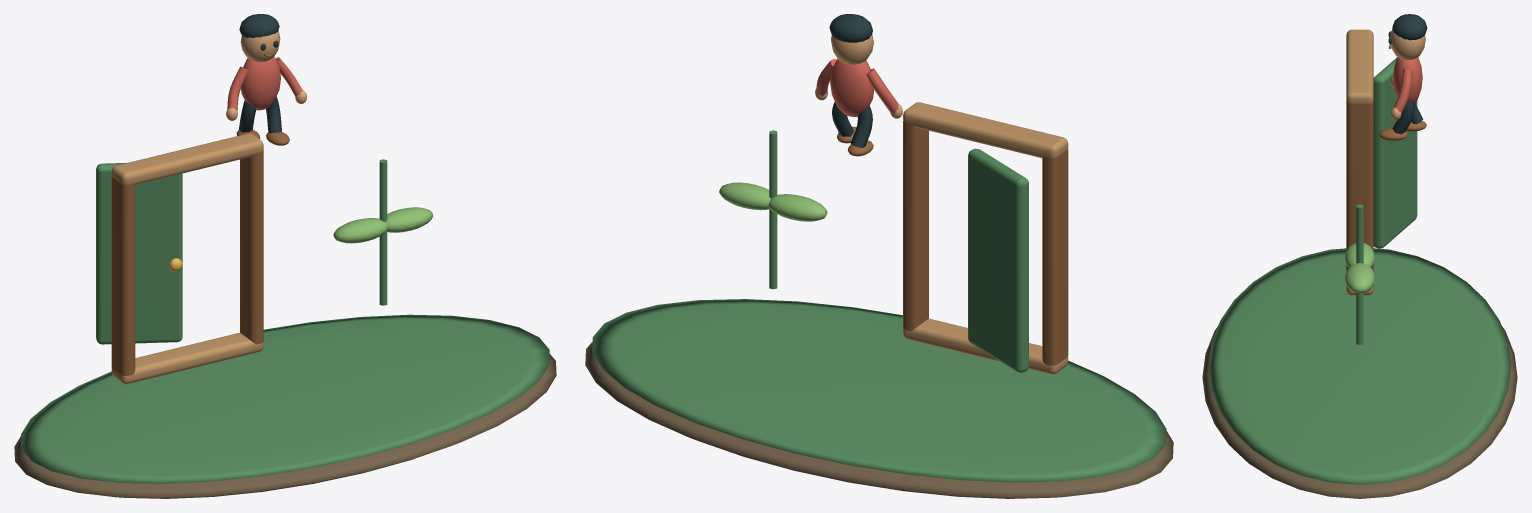
File: complete-third-exit-growth.glb
3 views of the same model, side by side, from view 1: azimuth 30°, elevation 25°; view 2: azimuth 150°, elevation 25°; view 3: azimuth 270°, elevation 25° (orthographic). The views are drawn at different scales.
Visible parts, largest first — view 1: complete-third-exit-growth_surface_01, complete-third-exit-growth_surface_02, complete-third-exit-growth_surface_00, complete-third-exit-growth_surface_03, complete-third-exit-growth_surface_08, complete-third-exit-growth_surface_05, complete-third-exit-growth_surface_07, complete-third-exit-growth_surface_06; view 2: complete-third-exit-growth_surface_01, complete-third-exit-growth_surface_02, complete-third-exit-growth_surface_00, complete-third-exit-growth_surface_03, complete-third-exit-growth_surface_08, complete-third-exit-growth_surface_05, complete-third-exit-growth_surface_07, complete-third-exit-growth_surface_06; view 3: complete-third-exit-growth_surface_01, complete-third-exit-growth_surface_00, complete-third-exit-growth_surface_02, complete-third-exit-growth_surface_03, complete-third-exit-growth_surface_07, complete-third-exit-growth_surface_08, complete-third-exit-growth_surface_05, complete-third-exit-growth_surface_06.
Boxes of the visible parts, bbox=[...] form: complete-third-exit-growth_surface_01: bbox=[21, 159, 549, 483]; complete-third-exit-growth_surface_02: bbox=[111, 52, 289, 375]; complete-third-exit-growth_surface_00: bbox=[14, 354, 556, 498]; complete-third-exit-growth_surface_03: bbox=[111, 133, 263, 384]; complete-third-exit-growth_surface_08: bbox=[227, 57, 302, 110]; complete-third-exit-growth_surface_05: bbox=[333, 207, 433, 243]; complete-third-exit-growth_surface_07: bbox=[239, 14, 281, 133]; complete-third-exit-growth_surface_06: bbox=[226, 30, 306, 120]; complete-third-exit-growth_surface_01: bbox=[592, 130, 1166, 482]; complete-third-exit-growth_surface_02: bbox=[837, 121, 1068, 365]; complete-third-exit-growth_surface_00: bbox=[585, 342, 1173, 498]; complete-third-exit-growth_surface_03: bbox=[903, 102, 1068, 374]; complete-third-exit-growth_surface_08: bbox=[816, 58, 898, 116]; complete-third-exit-growth_surface_05: bbox=[719, 182, 827, 221]; complete-third-exit-growth_surface_07: bbox=[829, 14, 872, 147]; complete-third-exit-growth_surface_06: bbox=[815, 34, 902, 118]; complete-third-exit-growth_surface_01: bbox=[1208, 57, 1511, 484]; complete-third-exit-growth_surface_00: bbox=[1202, 326, 1517, 498]; complete-third-exit-growth_surface_02: bbox=[1346, 44, 1426, 285]; complete-third-exit-growth_surface_03: bbox=[1346, 29, 1373, 295]; complete-third-exit-growth_surface_07: bbox=[1388, 14, 1427, 134]; complete-third-exit-growth_surface_08: bbox=[1393, 57, 1422, 113]; complete-third-exit-growth_surface_05: bbox=[1345, 243, 1374, 293]; complete-third-exit-growth_surface_06: bbox=[1390, 29, 1425, 120].
Bounding box in the file's own units: 4.56 × 3.29 × 2.5.
